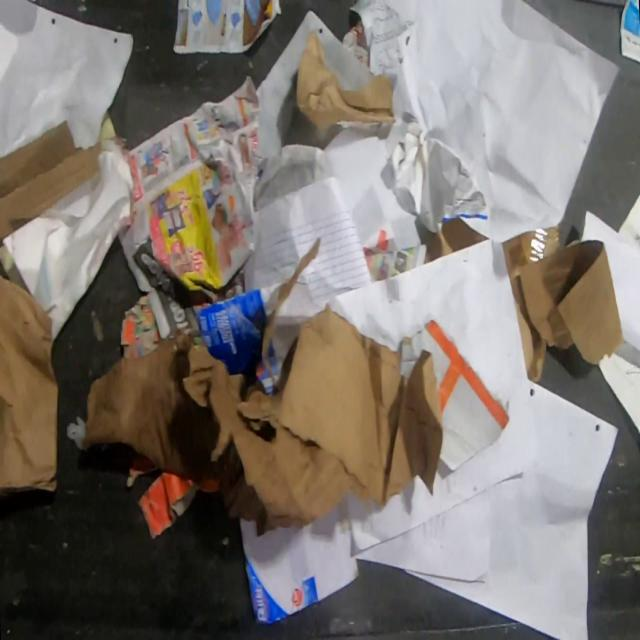cardboard: (81, 302, 444, 538), (0, 119, 105, 249), (0, 271, 60, 498), (518, 238, 624, 366), (294, 30, 397, 134), (501, 223, 561, 386), (194, 285, 276, 394), (135, 472, 219, 541), (420, 218, 490, 264), (118, 293, 162, 357), (125, 453, 160, 488)
rigid_plastic: (65, 414, 86, 450)
